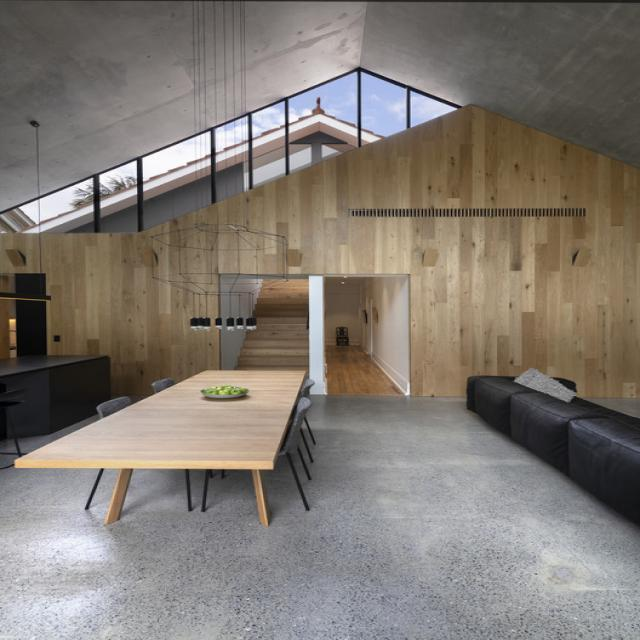couch: (466, 365, 640, 536)
